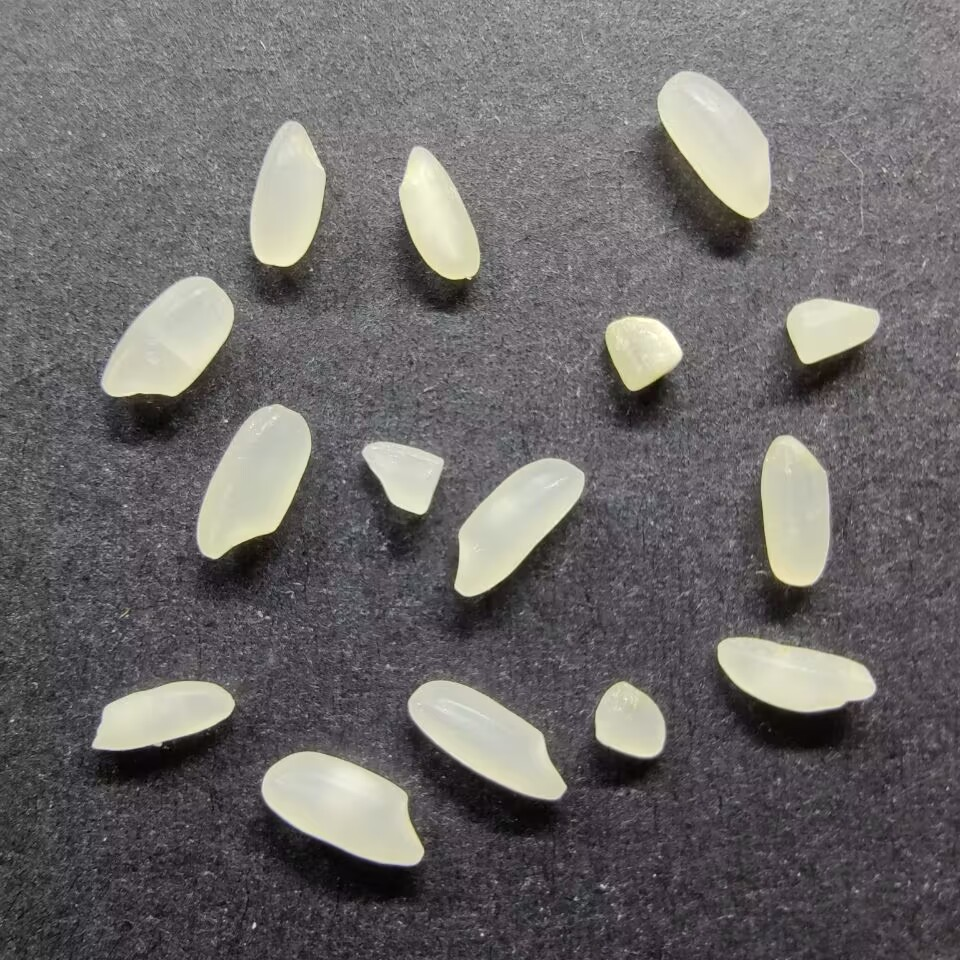broken: (359, 440, 447, 518), (784, 297, 882, 366), (603, 313, 684, 394), (591, 679, 666, 760)
rice: (405, 679, 569, 802), (258, 750, 426, 868), (452, 455, 587, 600), (194, 404, 313, 563), (655, 68, 776, 221), (98, 275, 235, 400), (247, 117, 329, 267), (716, 637, 876, 713), (396, 144, 482, 281), (760, 432, 833, 588), (87, 680, 236, 755)
